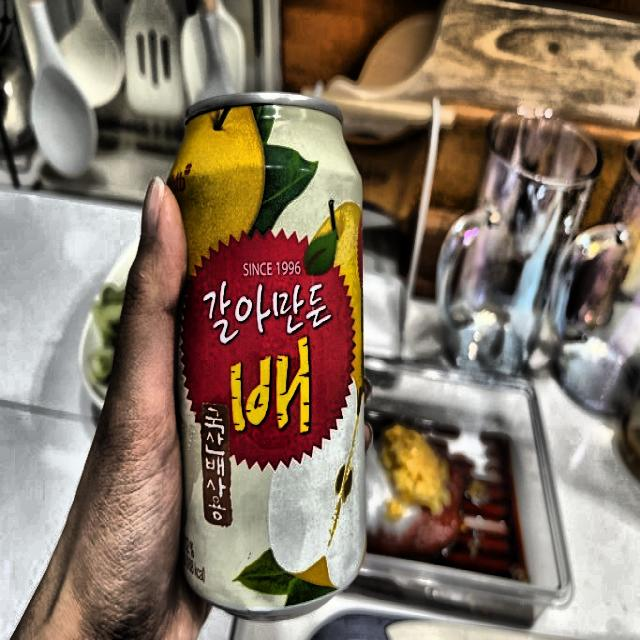galamandeunbae: (179, 129, 368, 592)
